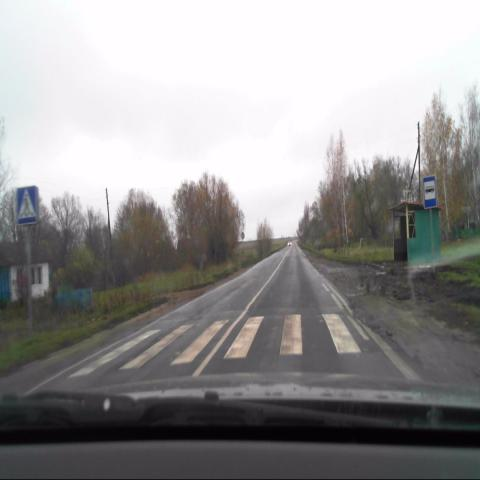5_16: (423, 177, 436, 211)
5_19_1: (16, 187, 40, 226)
